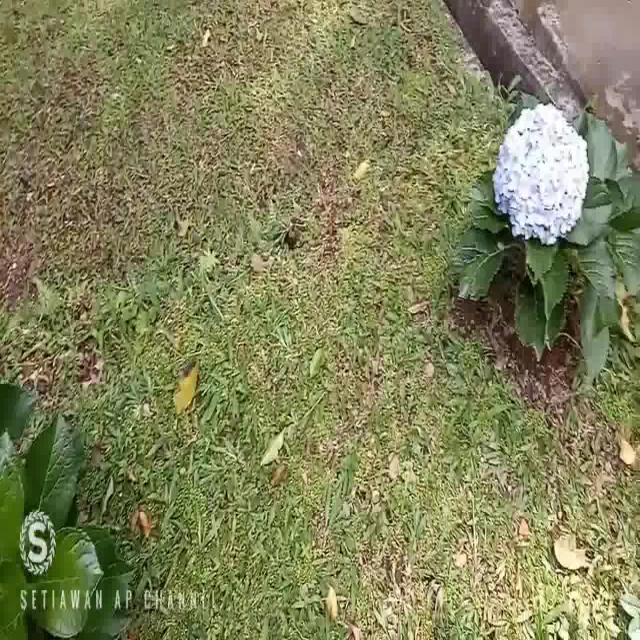Flower: (489, 93, 590, 251)
